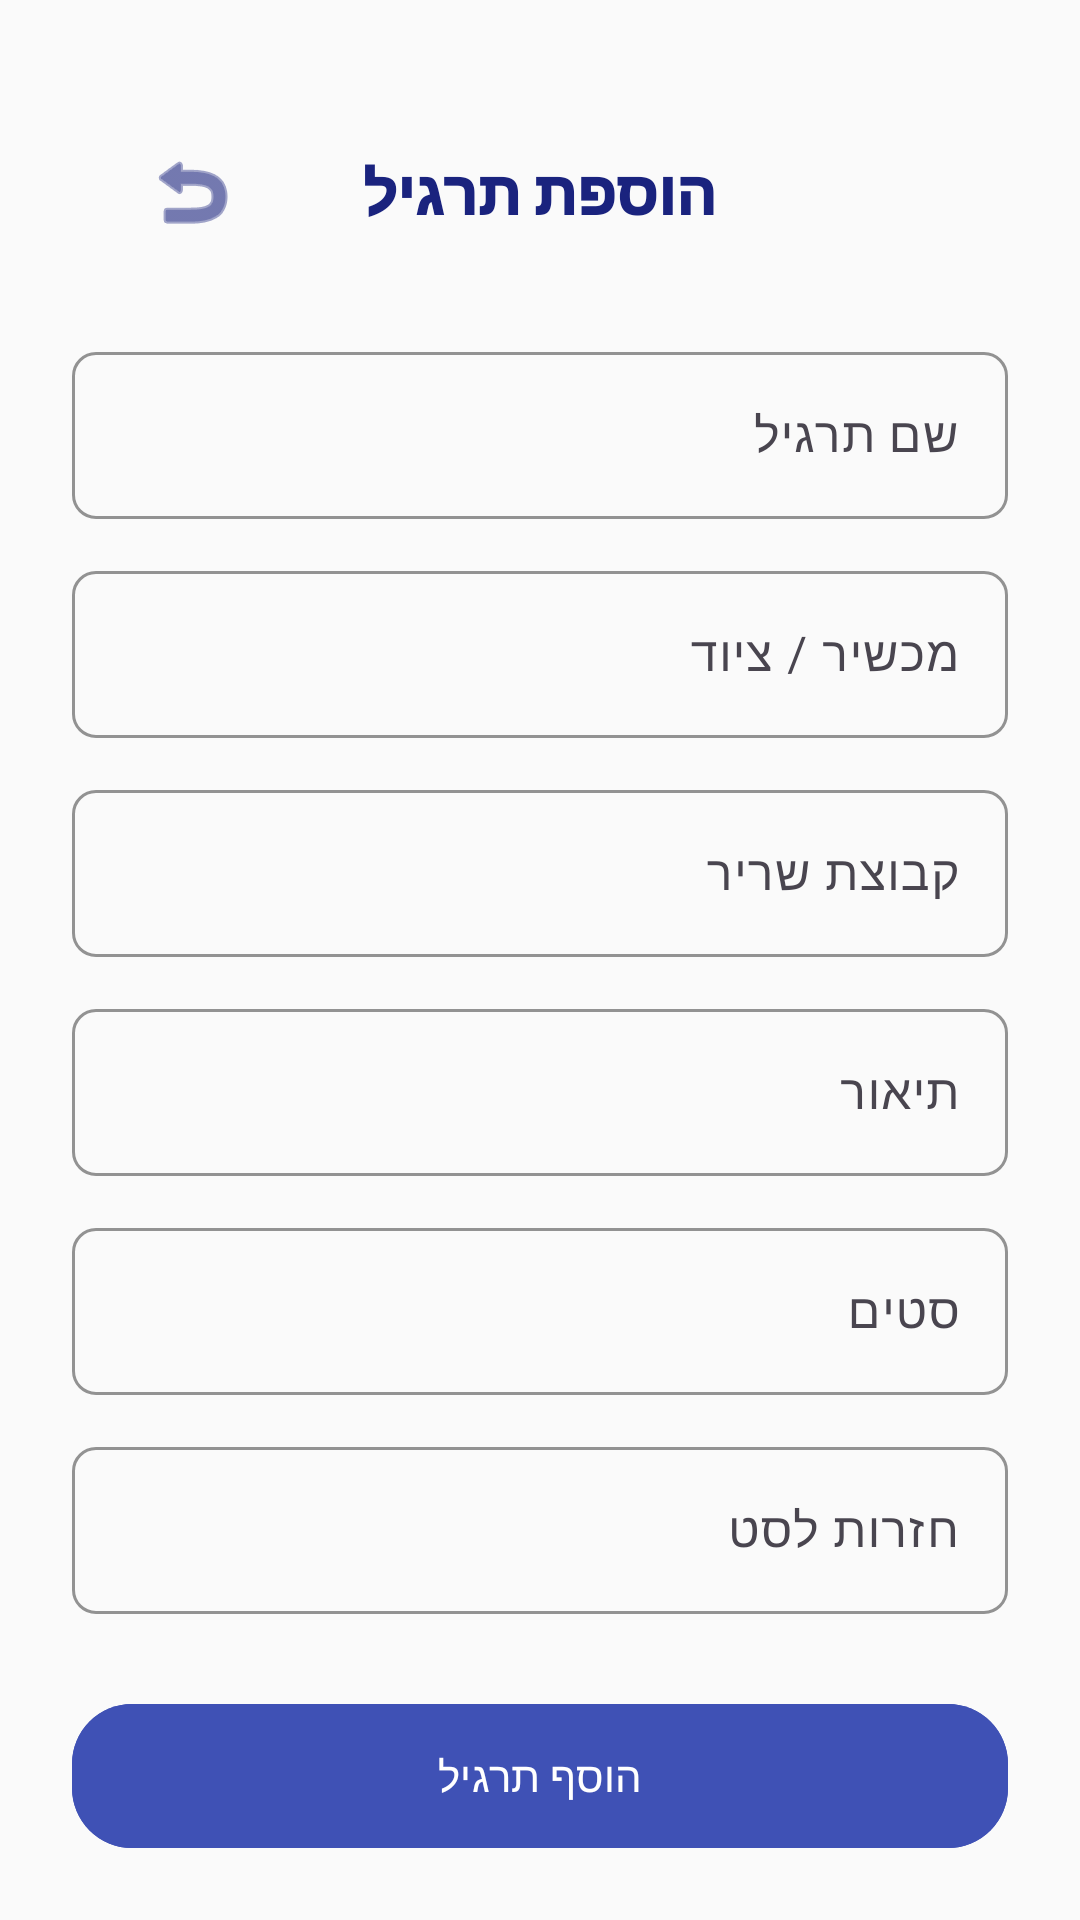

Icons on this 1080px×1920px Android screen, each with the point to tap as (x=x, y=y):
חזרה: (x=193, y=192)
